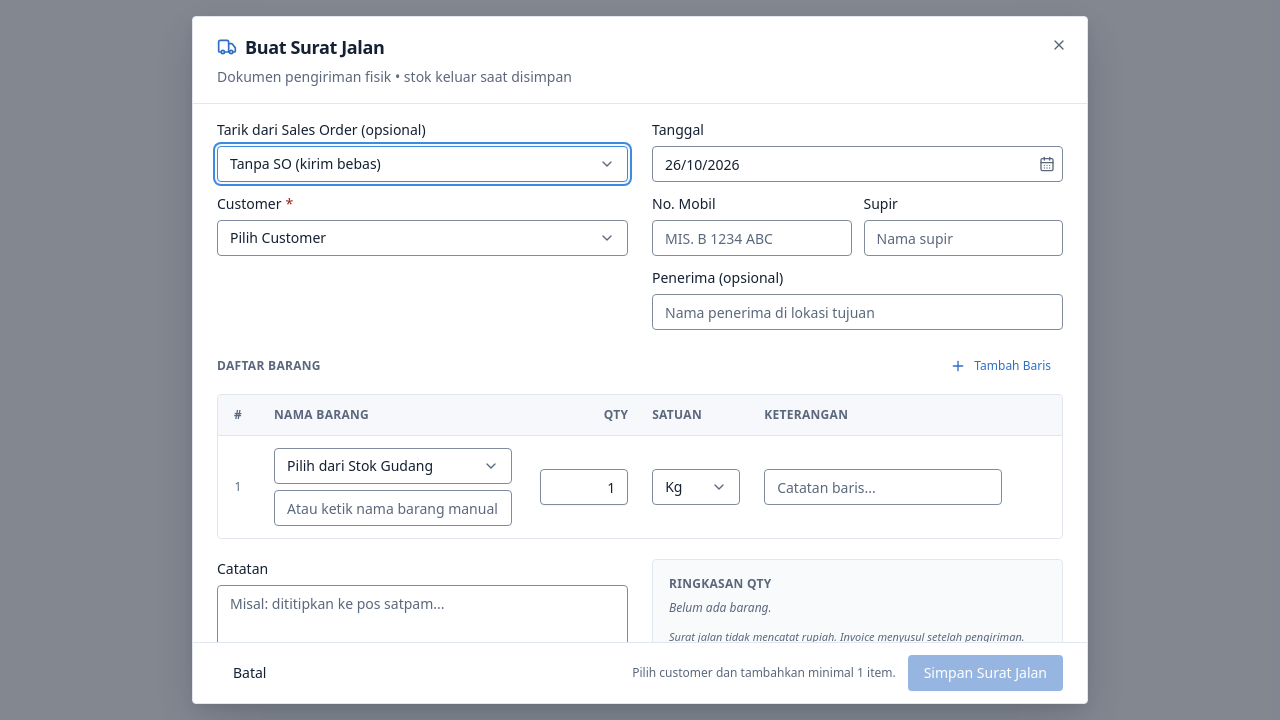
Test: DeliveryOrderModal — centang Surat Jalan Sementara › tidak menimpa nomor mobil / sopir yang sudah diketik staf
The width and height of the screenshot is (1280, 720).
Click the dropdown labelled "Pilih Customer": (278, 238) [217,220,628,256]
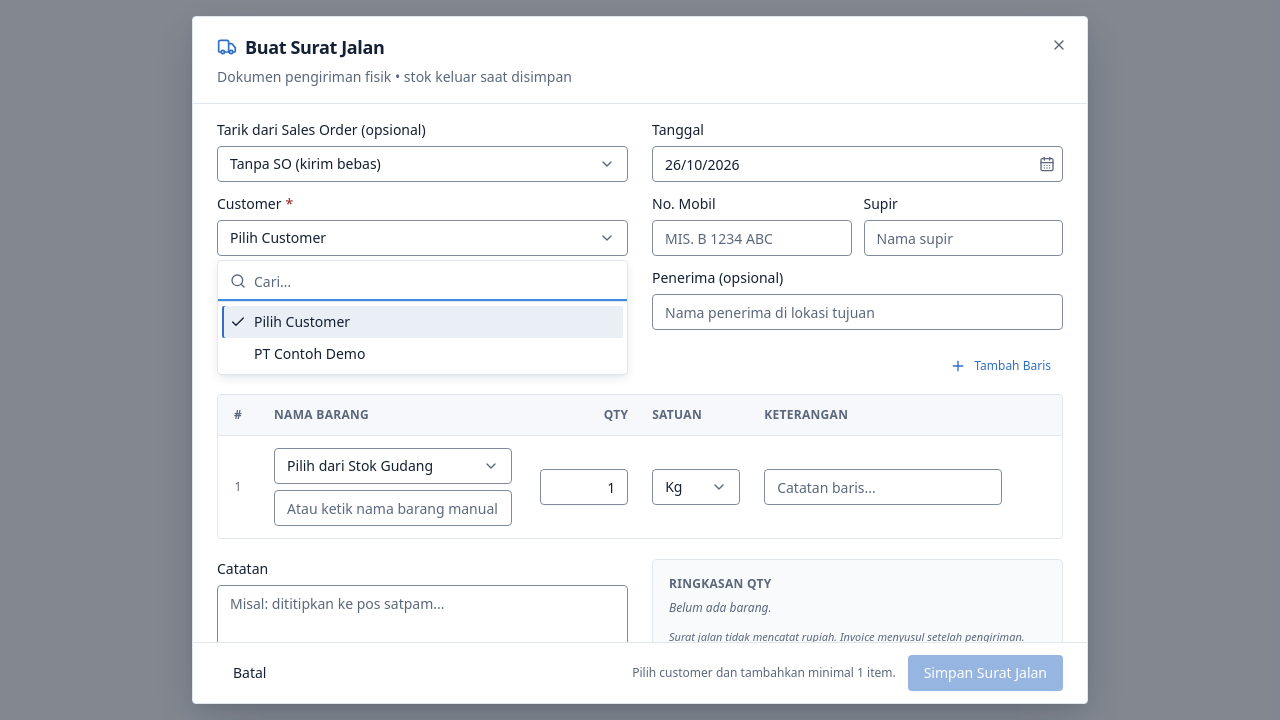
Click the option "PT Contoh Demo": (310, 354) [254,344,365,363]
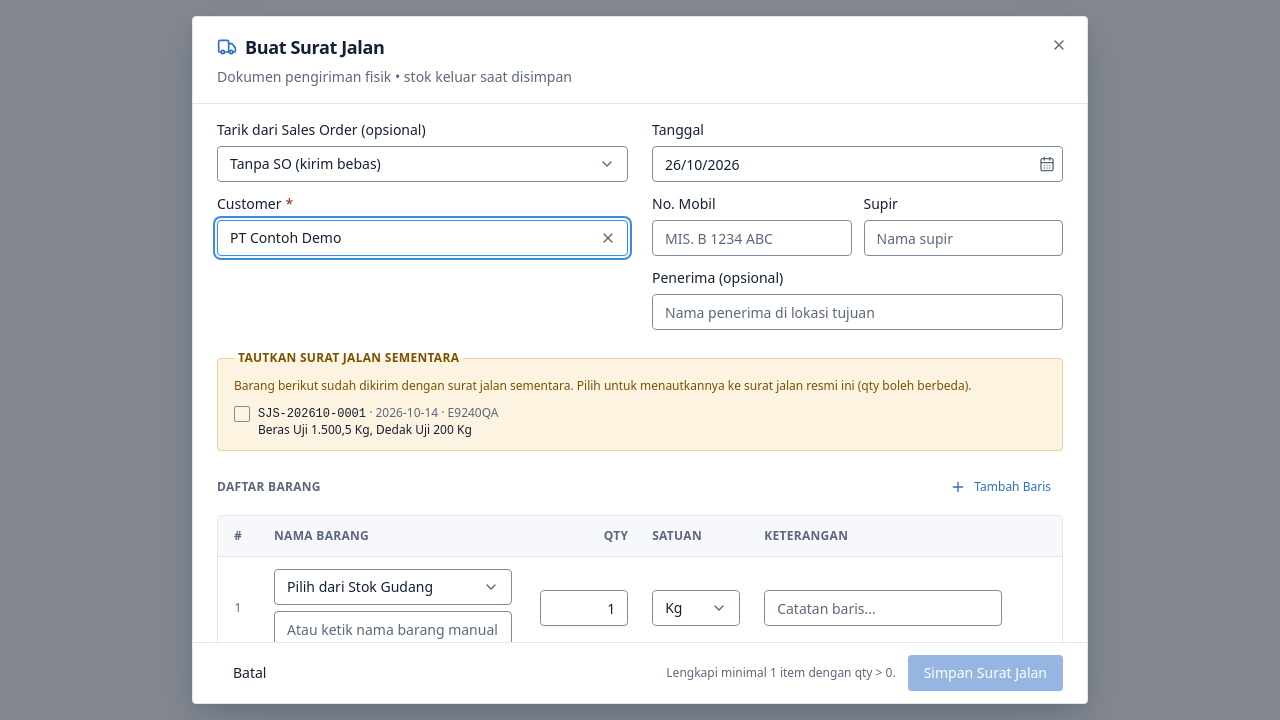
Click the checkbox named "SJS-202610-0001": (242, 414) [234,406,250,422]
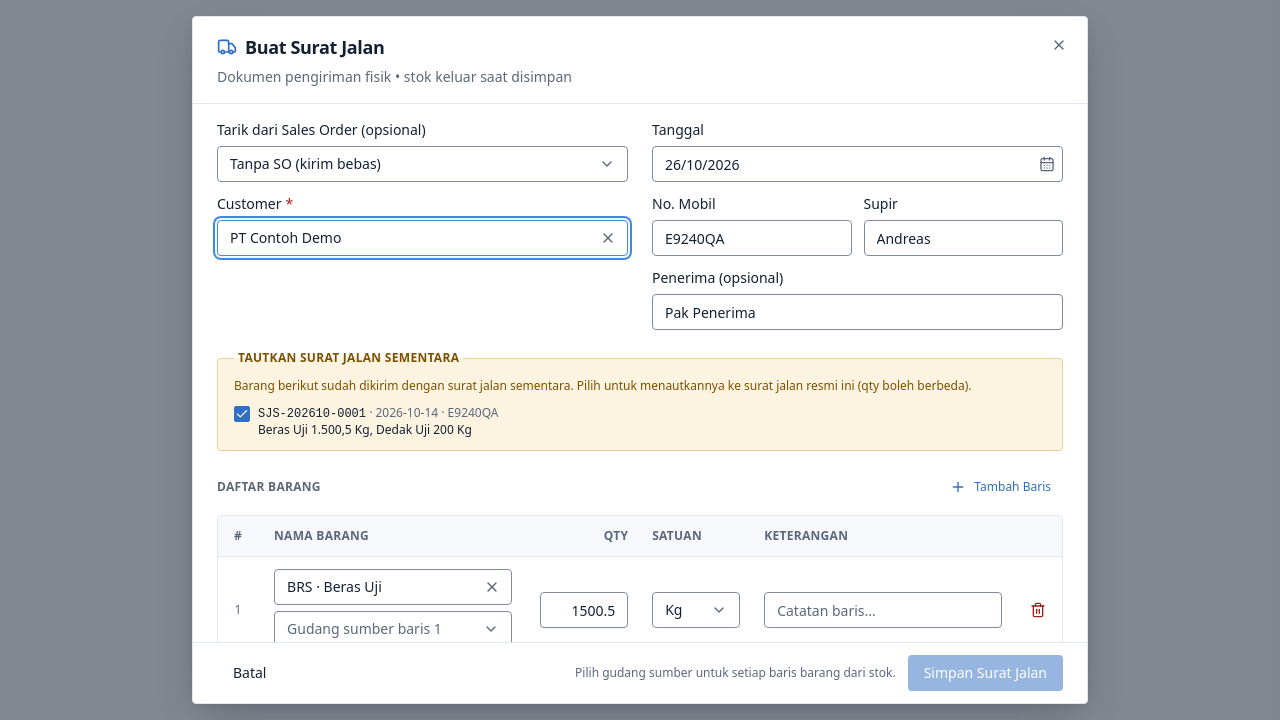
Check: the field showing "Andreas" is shown, box [864,220,1063,256]
